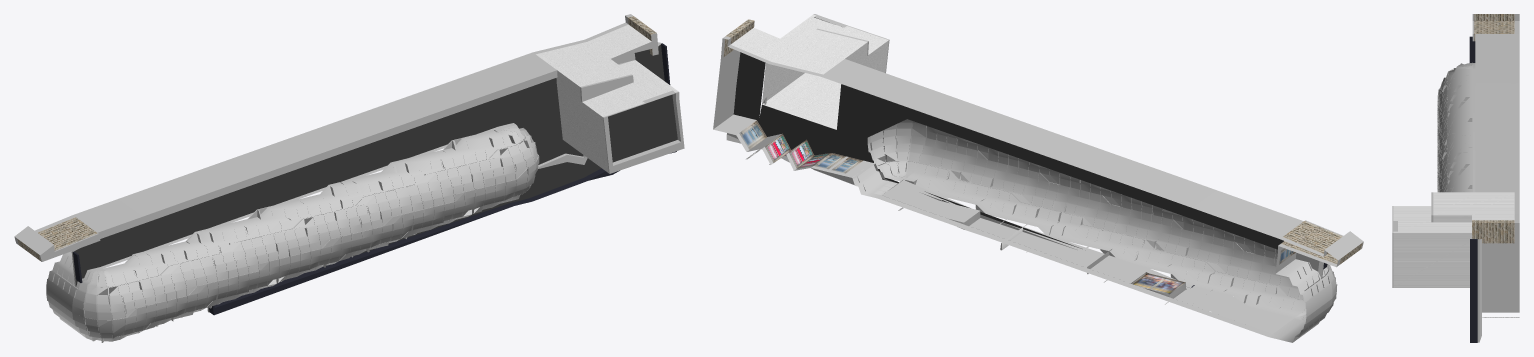
File: Viru_27a-origo.obj
3 renders of one model, left to right at view 1: azimuth 30°, elevation 25°; view 2: azimuth 150°, elevation 25°; view 3: azimuth 270°, elevation 25°, orthographic. The views are drawn at different scales.
Parts seen in each view (by area): view 1: Viru_27a; view 2: Viru_27a; view 3: Viru_27a.
Boxes of the visible parts, x1,y1,x2,y2 form: Viru_27a: (14, 14, 684, 342); Viru_27a: (713, 14, 1363, 342); Viru_27a: (1392, 14, 1519, 342).
Bounding box in the file's own units: 46.12 × 12 × 8.8.
